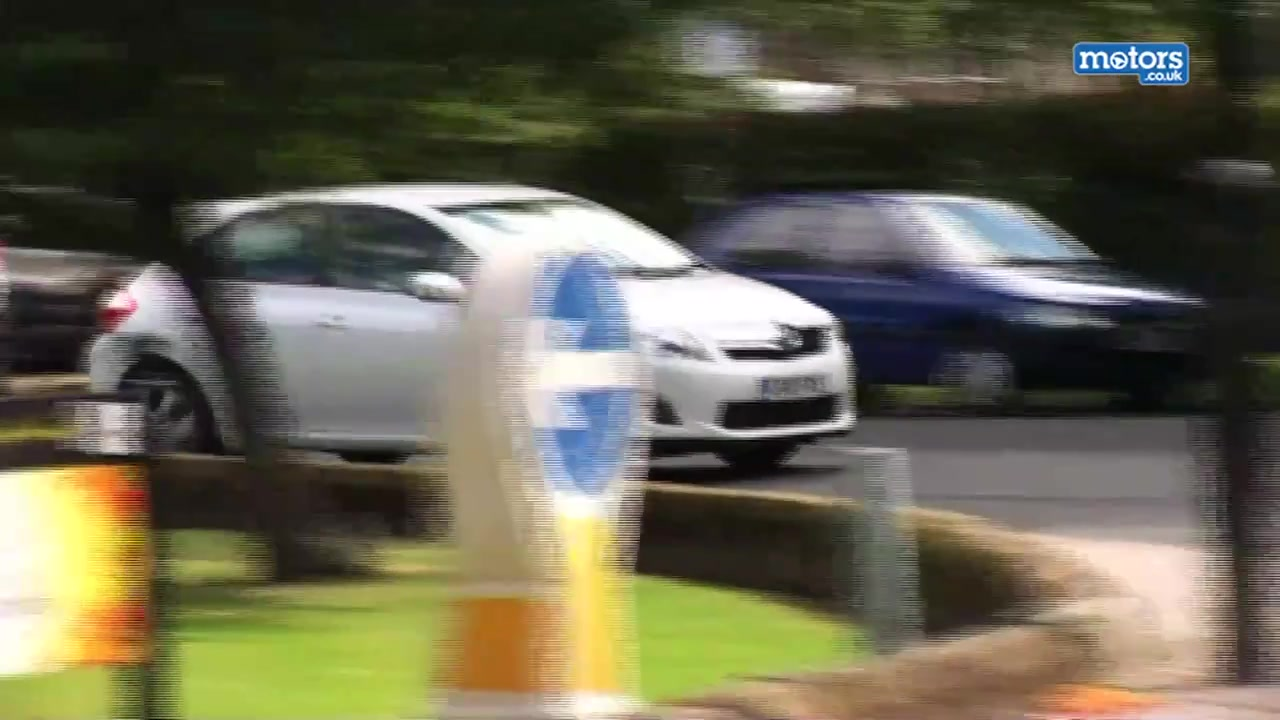car: (85, 182, 858, 465), (693, 189, 1217, 416)
